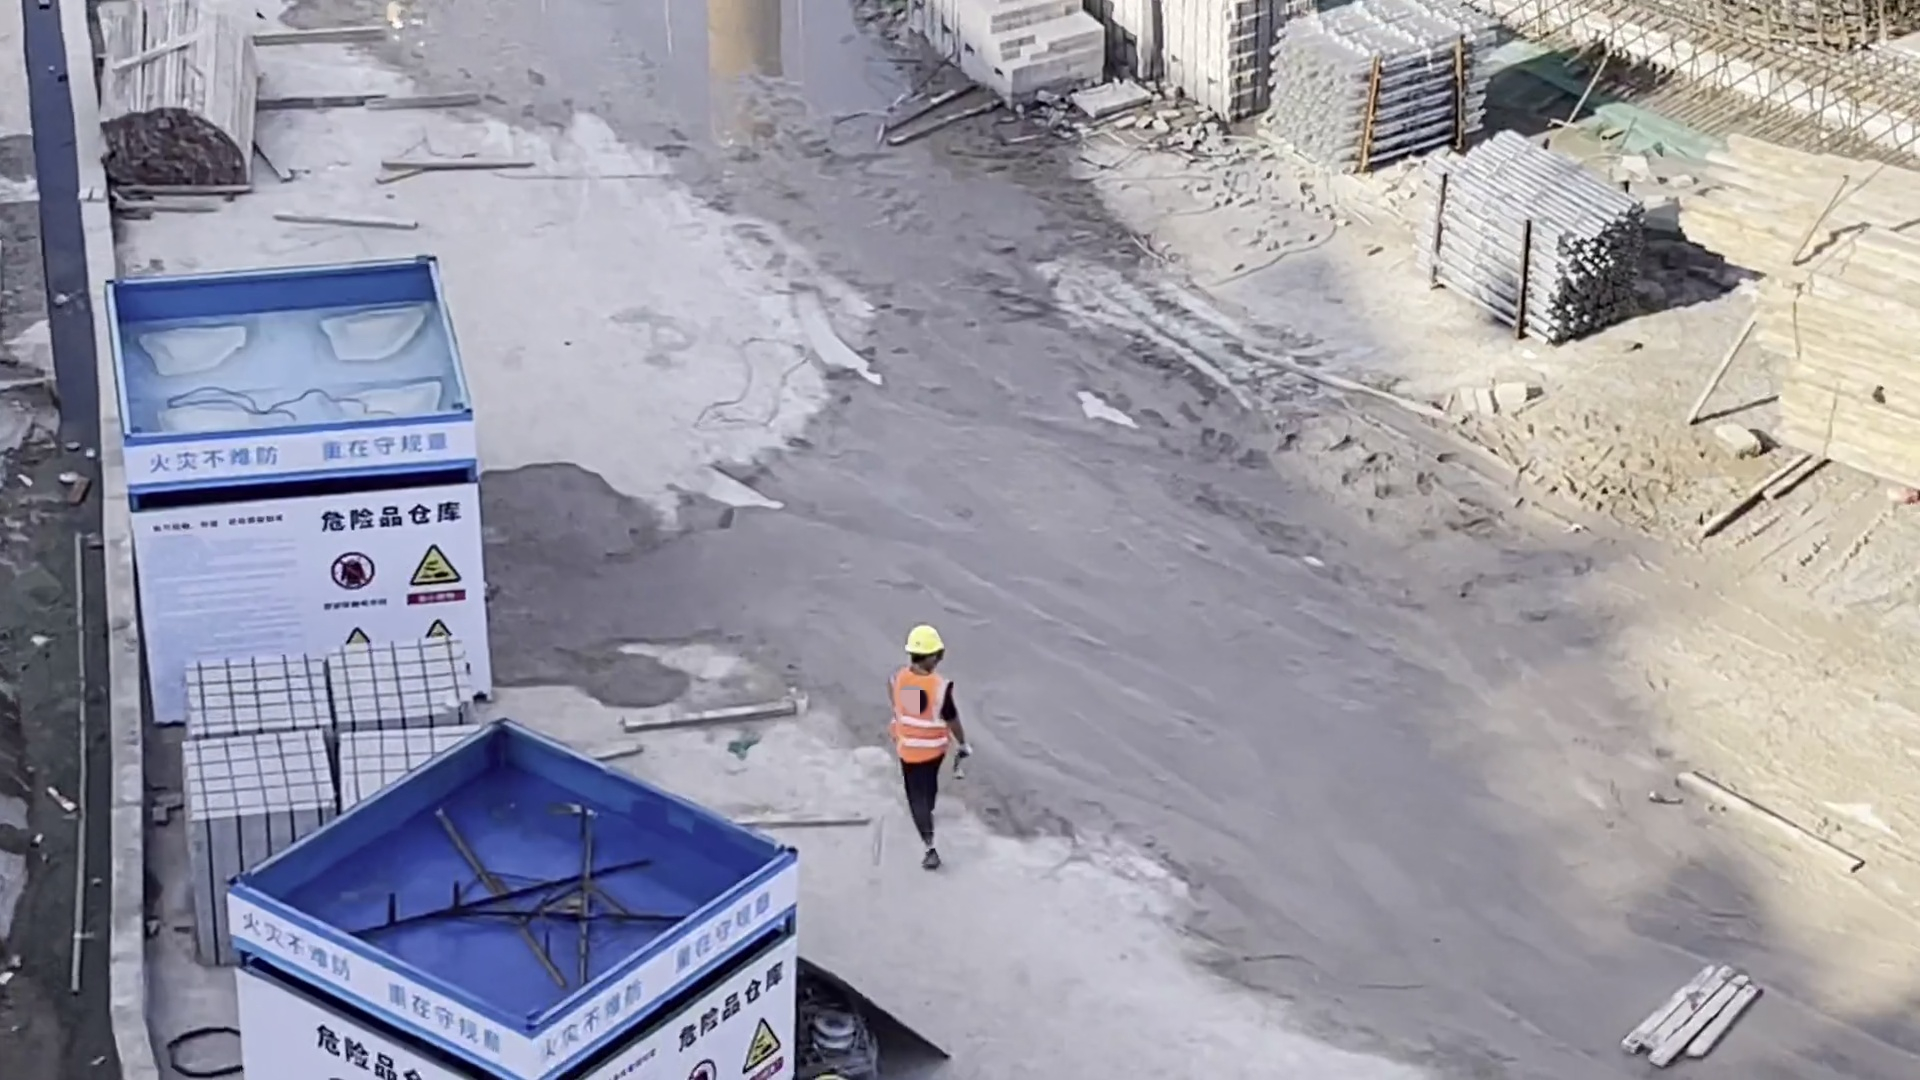brick: (921, 1, 1252, 126)
helmet: (905, 631, 946, 657)
person: (893, 629, 969, 876)
scaffold: (1433, 133, 1643, 338), (1270, 1, 1487, 167)
slogan: (235, 901, 794, 1047), (135, 420, 461, 481), (321, 538, 475, 630), (678, 1024, 791, 1080)
vest: (896, 672, 947, 779)
wood: (1750, 247, 1920, 485), (1702, 142, 1920, 285), (102, 18, 252, 193)
